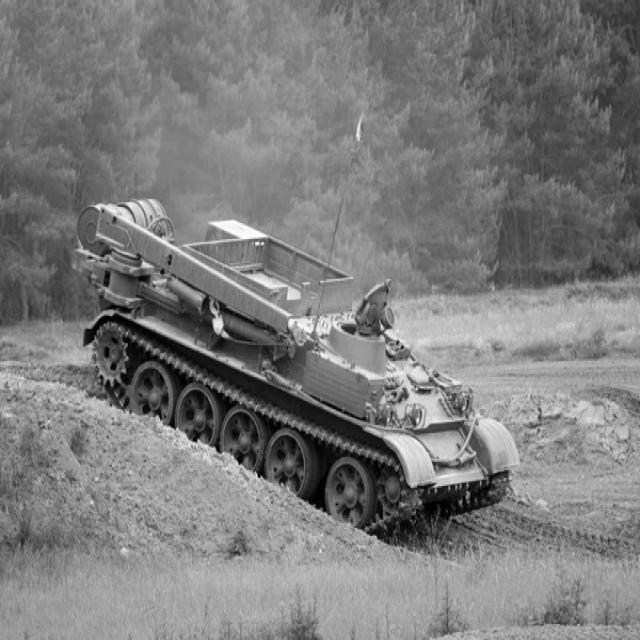Tank: (66, 167, 525, 547)
